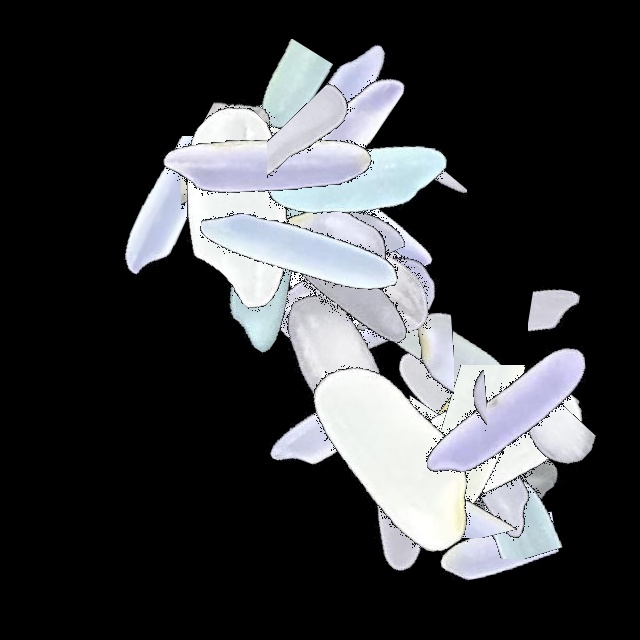Broken: (443, 330, 611, 580), (163, 58, 413, 221), (249, 71, 405, 321), (92, 136, 342, 288), (393, 383, 541, 633), (358, 475, 608, 622), (390, 365, 640, 512), (232, 262, 377, 512), (450, 315, 593, 565), (181, 56, 318, 306), (267, 45, 400, 295), (356, 310, 488, 560), (260, 412, 510, 541), (348, 411, 598, 538), (388, 381, 638, 499), (390, 444, 640, 559), (352, 339, 467, 589), (341, 235, 454, 485), (151, 39, 401, 152), (358, 441, 608, 549), (528, 202, 631, 452), (383, 307, 486, 557), (400, 285, 487, 535), (295, 256, 545, 341), (385, 83, 467, 333), (328, 416, 578, 496)
Full: (323, 276, 573, 526), (155, 129, 405, 379), (154, 75, 404, 325), (209, 0, 459, 250), (318, 344, 568, 594), (302, 213, 552, 463), (219, 77, 469, 327), (362, 345, 612, 595), (360, 322, 610, 572), (187, 82, 437, 332), (219, 169, 469, 419), (253, 185, 503, 435), (206, 233, 456, 483), (239, 161, 489, 411), (145, 128, 395, 378), (265, 370, 515, 620), (224, 162, 474, 412), (266, 335, 516, 585), (205, 119, 455, 369), (117, 78, 367, 328), (231, 55, 481, 305), (143, 38, 393, 288), (175, 127, 425, 377), (379, 287, 629, 537)
